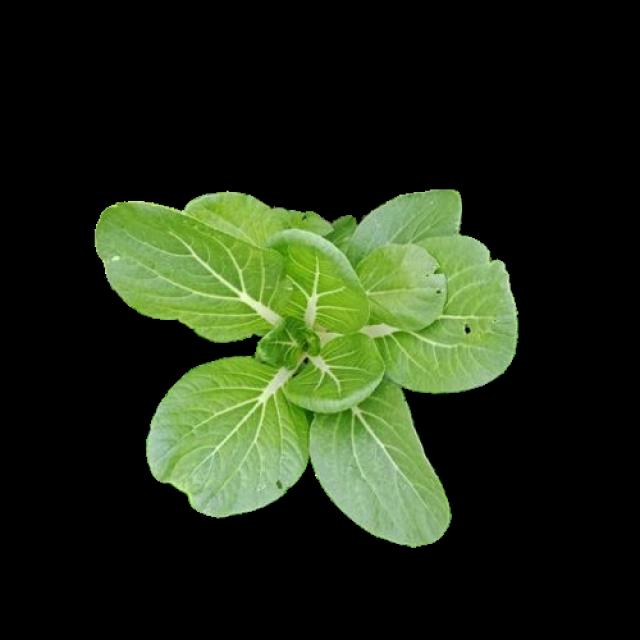mature: (98, 189, 522, 535)
unhealthy: (362, 236, 522, 394), (150, 364, 311, 514)
